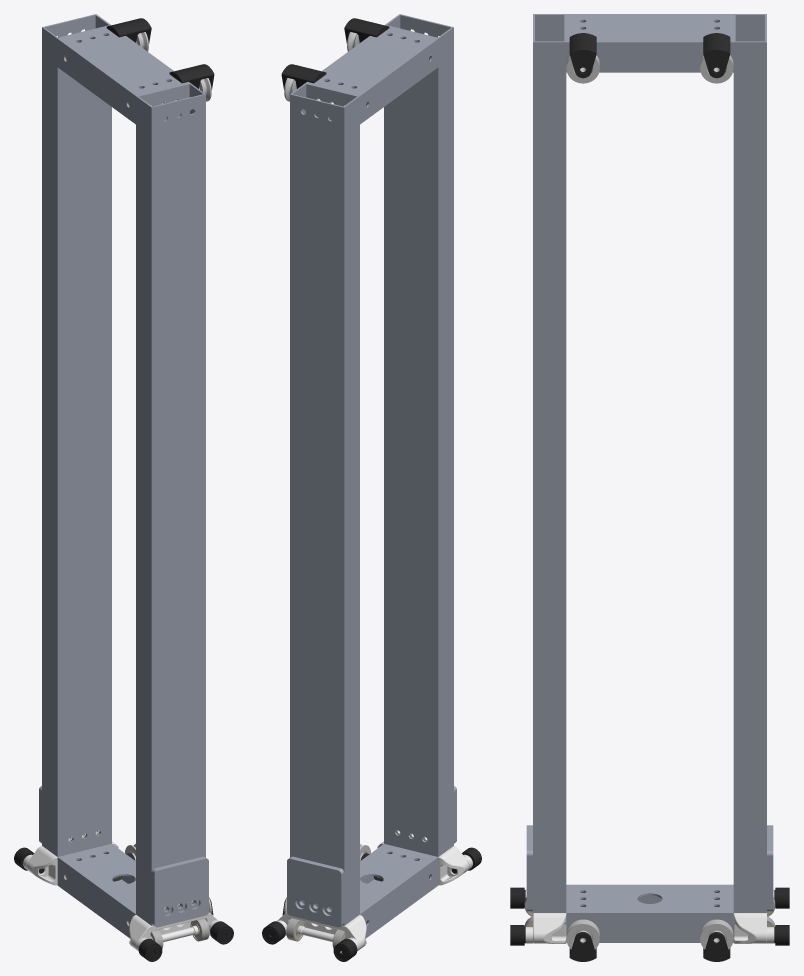
3 views of the same model, side by side, from view 1: azimuth 30°, elevation 25°; view 2: azimuth 150°, elevation 25°; view 3: azimuth 270°, elevation 25° (orthographic). The views are drawn at different scales.
Visible parts, largest first — view 1: ELE-2-back, ELE-2-front, ELE-2-top, ELE-2-bottom, SDS Elevator Block (×2), ELE-hardstop, ELE-standard-pulley-guard (×2); view 2: ELE-2-front, ELE-2-back, ELE-2-top, ELE-2-bottom, SDS Elevator Block (×2), ELE-hardstop, ELE-standard-pulley-guard (×2); view 3: ELE-2-front, ELE-2-back, ELE-2-bottom, ELE-2-top, SDS Elevator Block (×2), ELE-standard-pulley-guard (×4), 3434T74_Pulley for Wire Rope (×2), ELE-hardstop (×2).
Boxes of the visible parts, <box> form: ELE-2-back: <box>42,14,111,856</box>; ELE-2-front: <box>136,83,205,925</box>; ELE-2-top: <box>57,27,189,124</box>; ELE-2-bottom: <box>57,844,135,938</box>; SDS Elevator Block (×2): <box>14,841,233,961</box>; ELE-hardstop: <box>151,856,208,927</box>; ELE-standard-pulley-guard (×2): <box>106,18,214,89</box>; ELE-2-front: <box>384,14,453,856</box>; ELE-2-back: <box>290,83,359,925</box>; ELE-2-top: <box>306,27,438,124</box>; ELE-2-bottom: <box>360,844,438,938</box>; SDS Elevator Block (×2): <box>262,841,481,961</box>; ELE-hardstop: <box>287,856,344,927</box>; ELE-standard-pulley-guard (×2): <box>281,18,389,89</box>; ELE-2-front: <box>533,14,566,912</box>; ELE-2-back: <box>733,14,766,912</box>; ELE-2-bottom: <box>566,884,733,942</box>; ELE-2-top: <box>566,14,733,72</box>; SDS Elevator Block (×2): <box>510,887,789,945</box>; ELE-standard-pulley-guard (×4): <box>569,33,730,961</box>; 3434T74_Pulley for Wire Rope (×2): <box>566,919,733,949</box>; ELE-hardstop (×2): <box>526,825,773,911</box>.
Size of the model in its own units: 0.0906 by 0.7651 by 0.2125.
